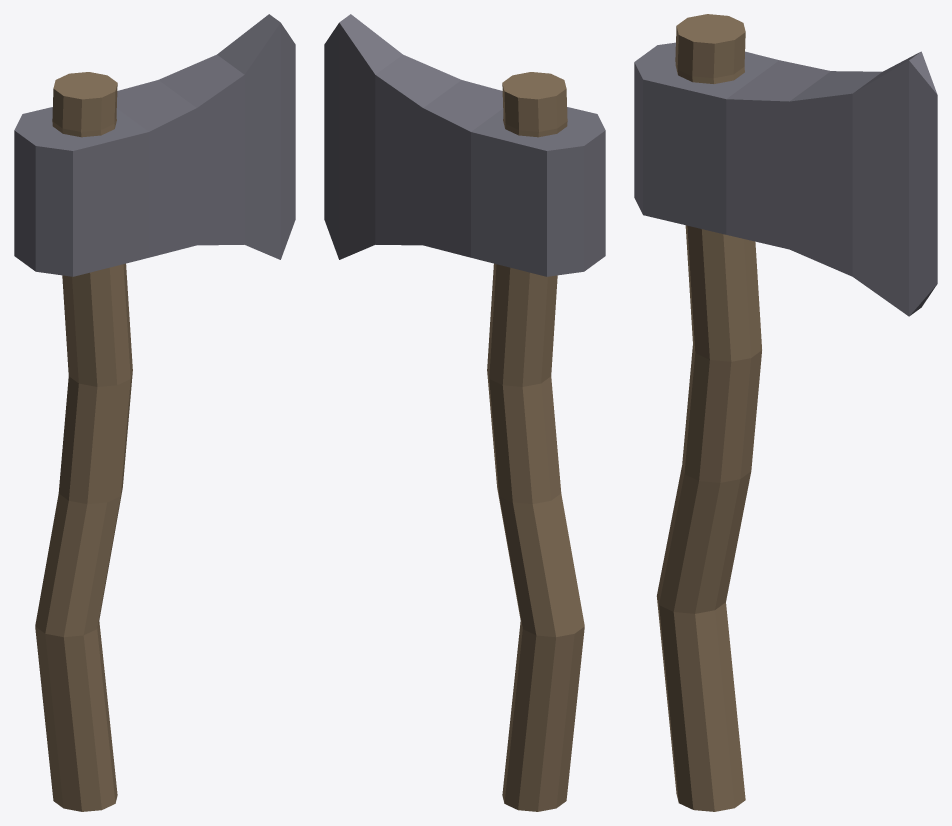
Rendered from nivel2 hacha.fbx.
The picture shows the model from 3 angles, left to right: view 1: azimuth 30°, elevation 25°; view 2: azimuth 150°, elevation 25°; view 3: azimuth 330°, elevation 25°; orthographic projection. The views are drawn at different scales.
Parts seen in each view (by area): view 1: Cabeza hacha; view 2: Cabeza hacha; view 3: Cabeza hacha.
Part boxes in pixels (bbox=[...]): Cabeza hacha: bbox=[14, 14, 295, 811]; Cabeza hacha: bbox=[324, 14, 605, 811]; Cabeza hacha: bbox=[634, 14, 937, 811].
Bounding box in the file's own units: 238 × 617 × 77.15.
